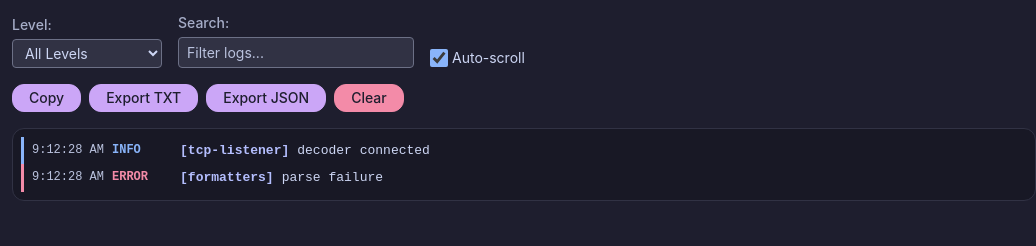
Test: LogsViewer › NIT-10: search filtering › combines level filter and search — an entry must match both
The image size is (1036, 246).
Step 1. Select "Info" in the dropdown labelled "Level:" → point(87, 54), box [12,39,162,68]
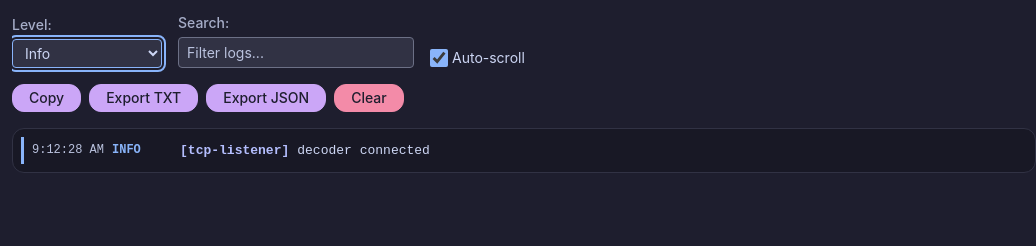
Step 2. Type "parse" into the field labelled "Search:" → point(296, 52), box [178,37,414,68]
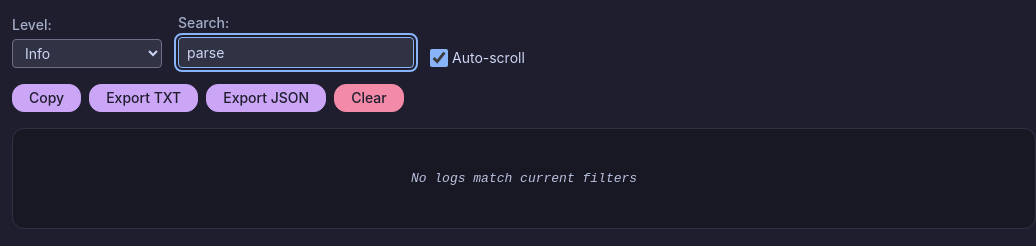
Expected: no elements with class "log-entry" are shown
Expected: the text "No logs match current filters" is shown, [411,170,637,186]
